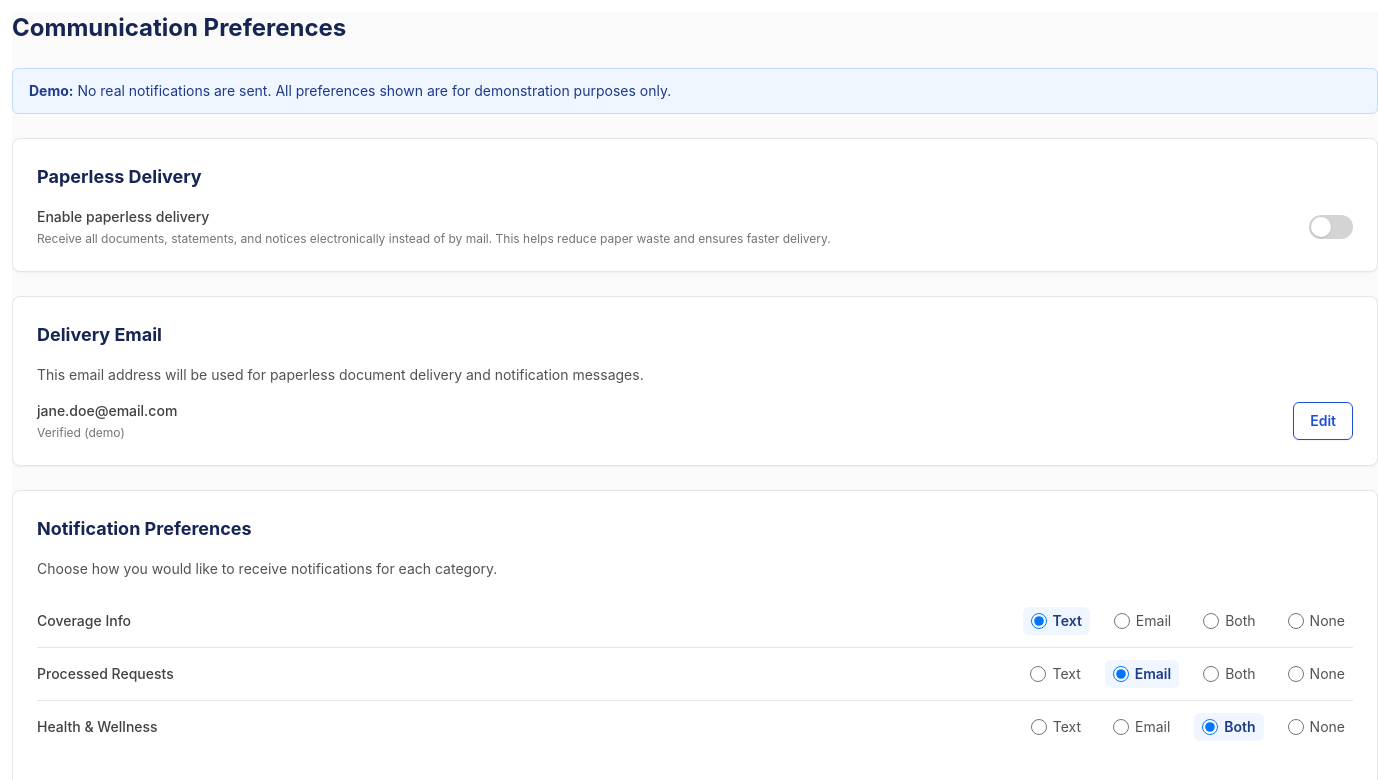
it: CommunicationPreferencesPage › toggles paperless delivery on click
This screenshot has width=1378, height=780.
Click the switch named "toggle paperless delivery" at (1331, 227), box x1=1309 y1=215 x2=1353 y2=239
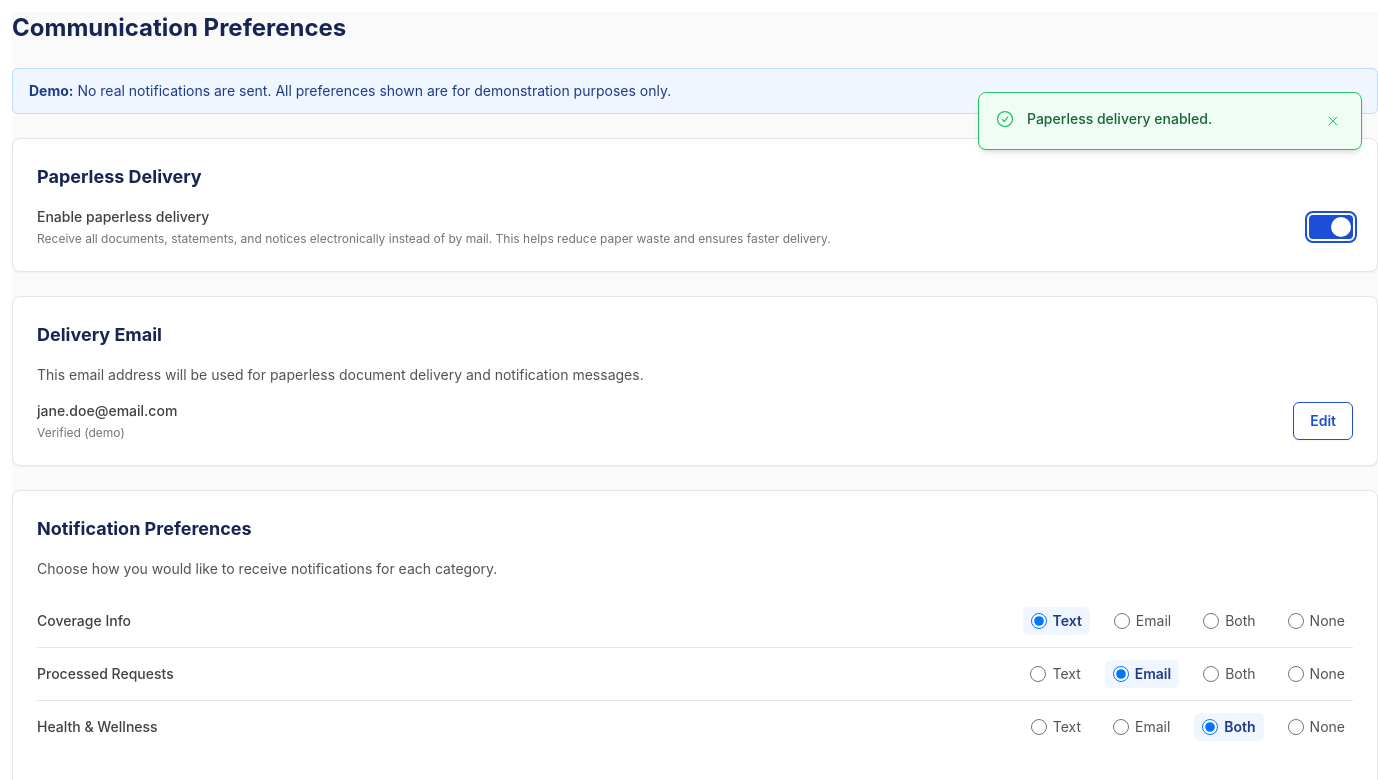
Check: the text "Paperless delivery enabled." is shown, box x1=1027 y1=110 x2=1212 y2=127
